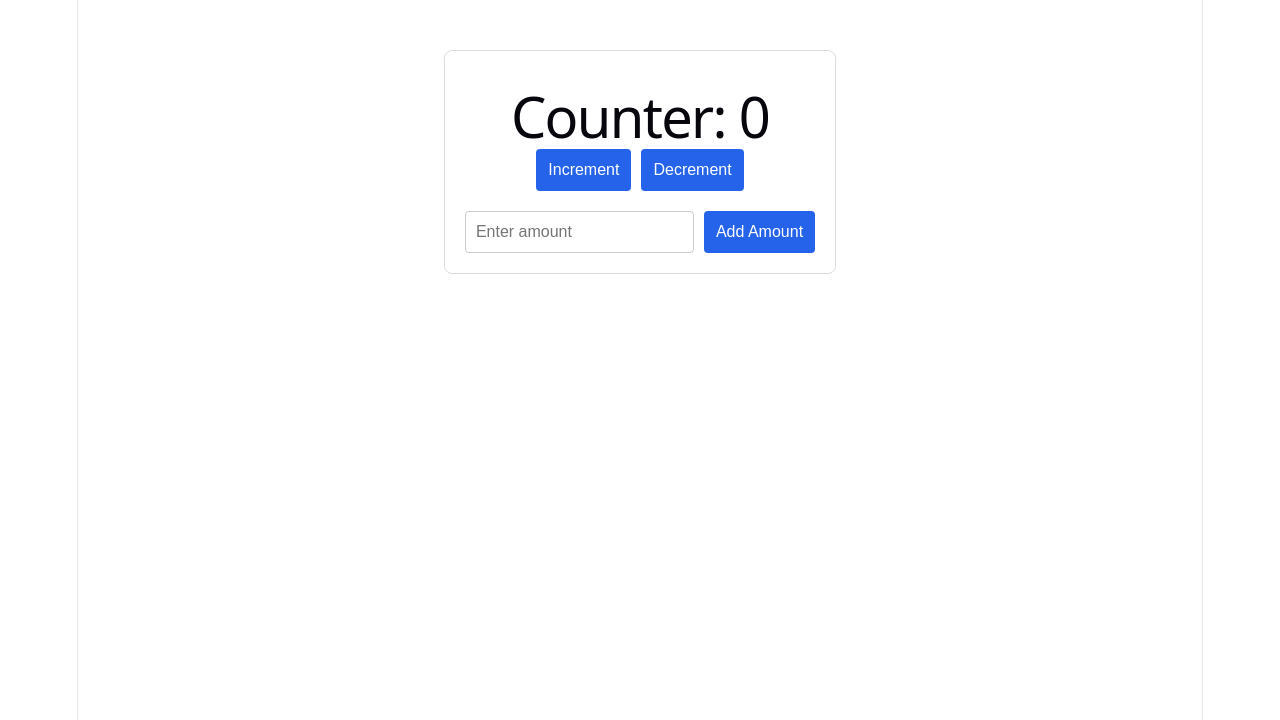
Test case: should decrease counter value by 1 when clicking decrease button
The image size is (1280, 720).
Click the button "Decrement". click: click(693, 170)
box: [641, 149, 744, 191]
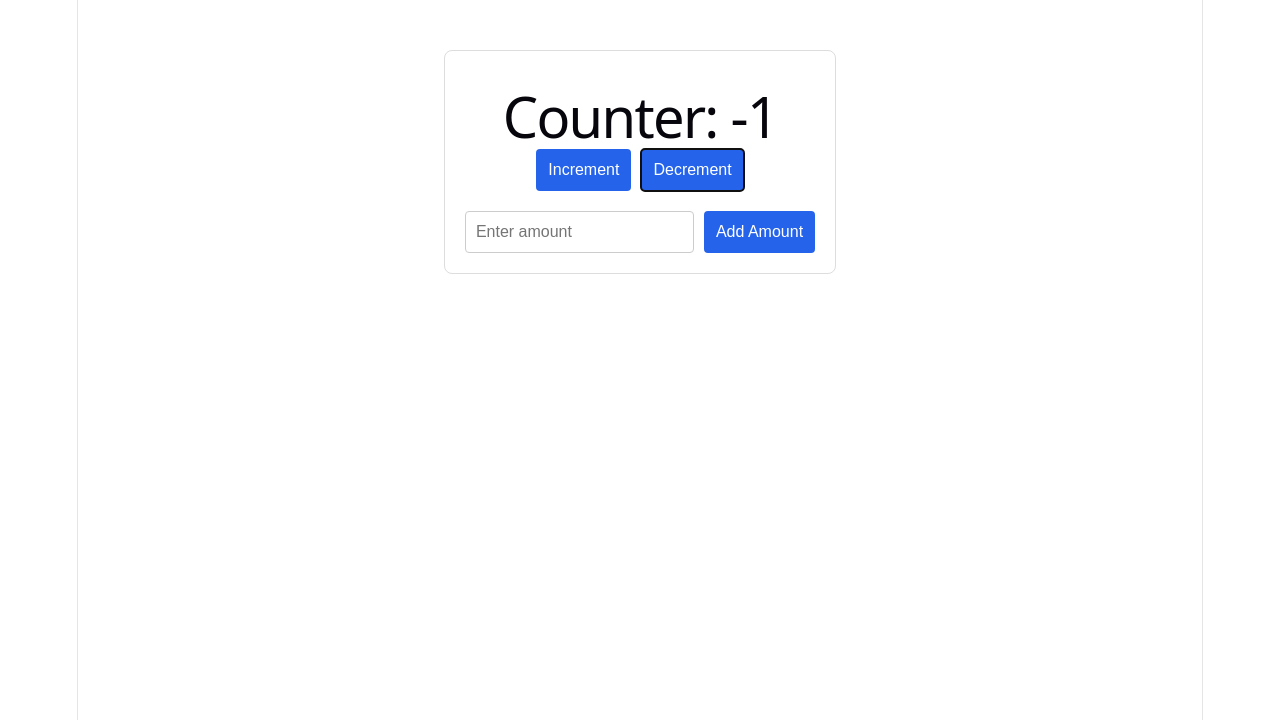
Check: the heading reads "Counter: -1", box [503, 78, 777, 154]
